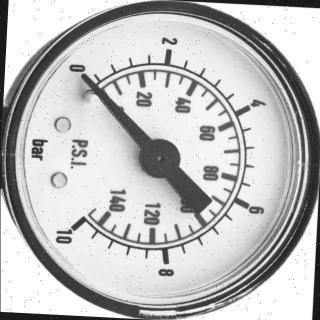gauge: (0, 0, 320, 319), (52, 193, 104, 247), (60, 58, 119, 104), (138, 138, 182, 178), (78, 70, 94, 86)
